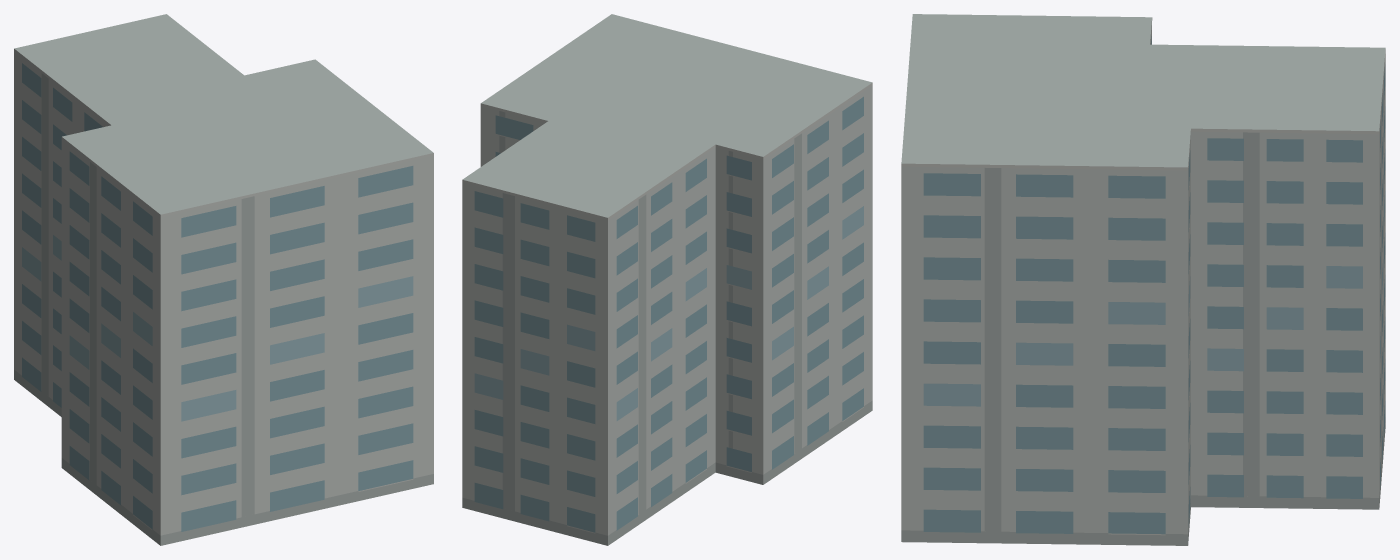
The model's file is residential-903a6fcf-0aa1-45cd-8554-c13fbbae335a.glb.
The picture shows the model from 3 angles, left to right: view 1: azimuth 30°, elevation 25°; view 2: azimuth 150°, elevation 25°; view 3: azimuth 270°, elevation 25°; orthographic projection. The views are drawn at different scales.
Parts seen in each view (by area): view 1: residential-903a6fcf-0aa1-45cd-8554-c13fbbae335a.tmp; view 2: residential-903a6fcf-0aa1-45cd-8554-c13fbbae335a.tmp; view 3: residential-903a6fcf-0aa1-45cd-8554-c13fbbae335a.tmp.
Boxes of the visible parts, box(x1,y1,x2,y2) form: residential-903a6fcf-0aa1-45cd-8554-c13fbbae335a.tmp: box(14, 14, 433, 545); residential-903a6fcf-0aa1-45cd-8554-c13fbbae335a.tmp: box(462, 14, 872, 545); residential-903a6fcf-0aa1-45cd-8554-c13fbbae335a.tmp: box(901, 14, 1385, 545).
Bounding box in the file's own units: 26.1 × 30 × 34.8.
